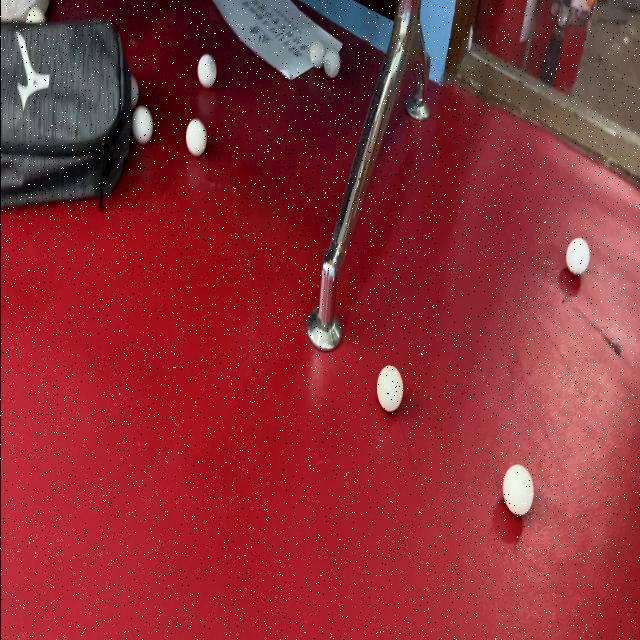ping-pong-ball: (499, 458, 535, 523), (374, 363, 404, 418), (564, 233, 592, 279), (128, 102, 154, 150), (184, 116, 208, 162), (195, 52, 215, 90), (305, 38, 323, 76), (322, 46, 340, 78)
